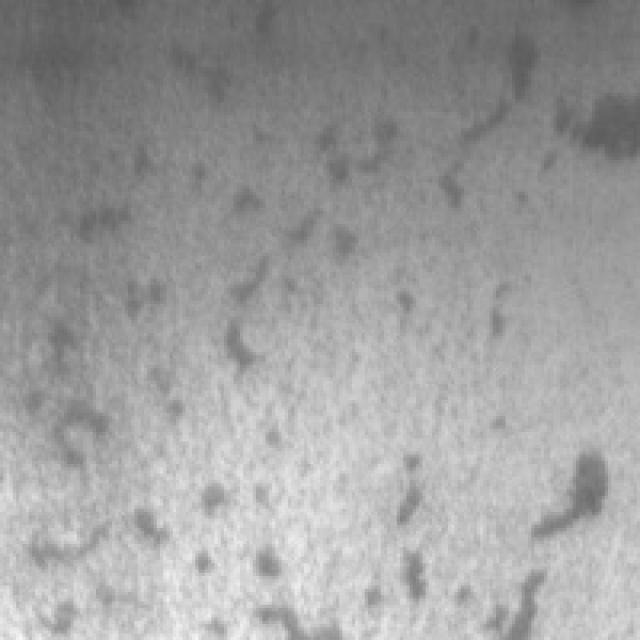patches: (525, 429, 627, 547), (550, 77, 640, 166)
pitted_surface: (112, 22, 544, 589), (16, 3, 179, 634)
